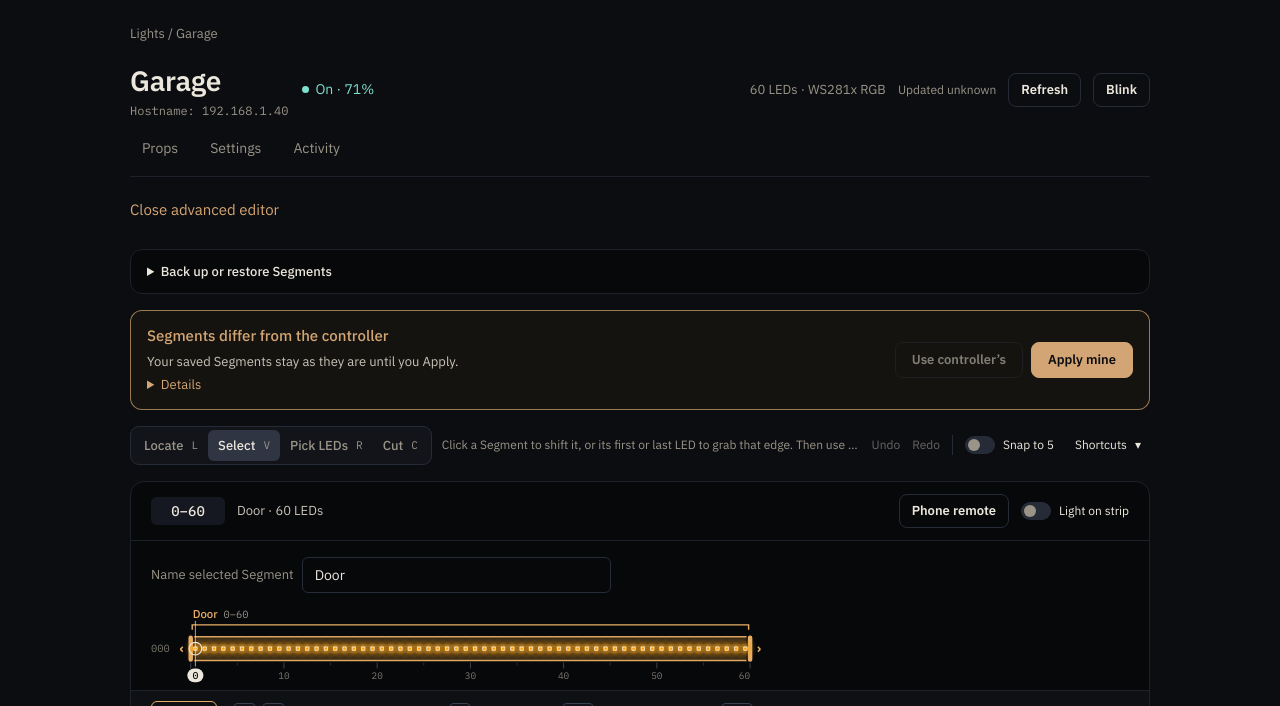
Test case: Segments Preview recovery › shows a failed Preview, clears its live claim, and offers explicit retry
This screenshot has width=1280, height=706.
What coordinates should you click on to do the following:
click the button "Light on strip"
I would click on:
 (1075, 511)
Its box is [1021, 502, 1129, 520].
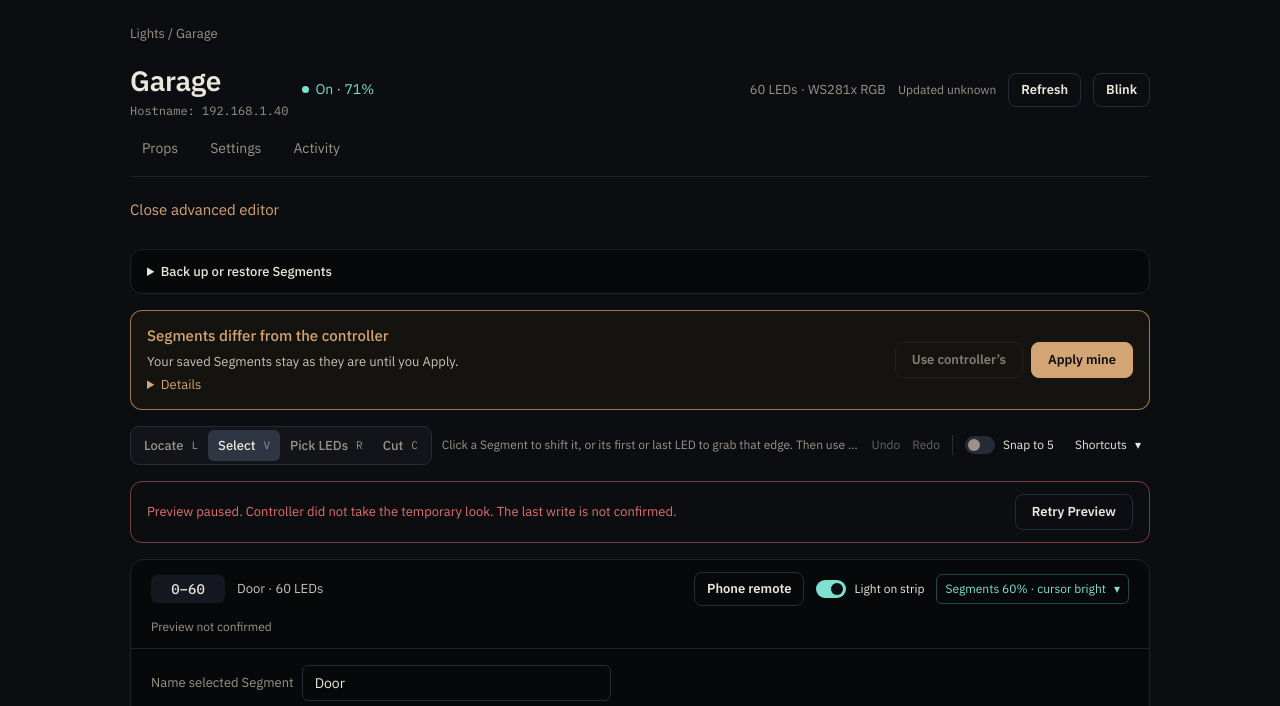
Result: the 1st message shows "Preview paused" at [147, 503, 676, 520]
Result: the text "Preview not confirmed" is shown at [151, 619, 272, 634]
What coordinates should you click on to do the following:
click the button "Retry Preview"
I would click on:
 (1074, 512)
Its box is [1015, 494, 1133, 530].
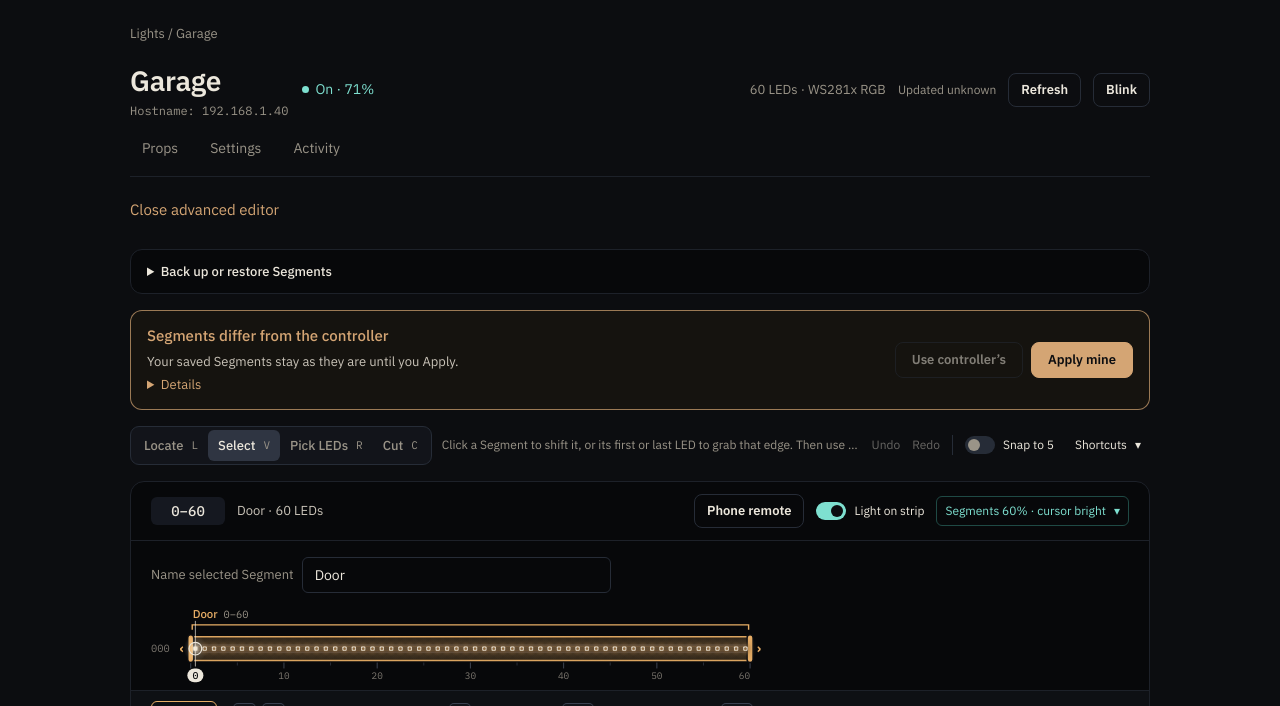
Result: the message is gone
